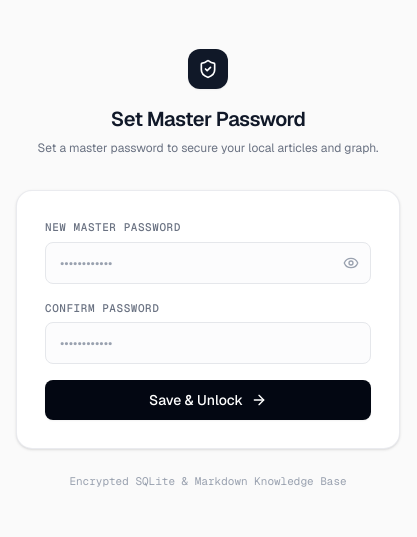
Scenario: Views: LoginView and ArchiveView › LoginView.vue › displays error when passwords do not match in setup mode
The image size is (417, 537).
Type "validpass123" into the password field with placeholder "••••••••••••" below "New Master Password" at coordinates (208, 263), box x1=45 y1=242 x2=371 y2=284
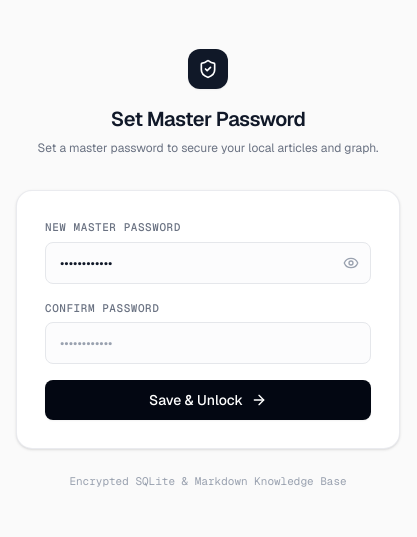
Type "mismatch123" into the password field with placeholder "••••••••••••" at coordinates (208, 343), box x1=45 y1=322 x2=371 y2=364
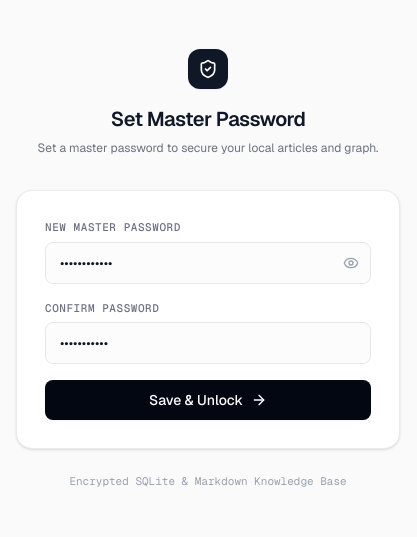
Submit the form, box x1=45 y1=219 x2=371 y2=420
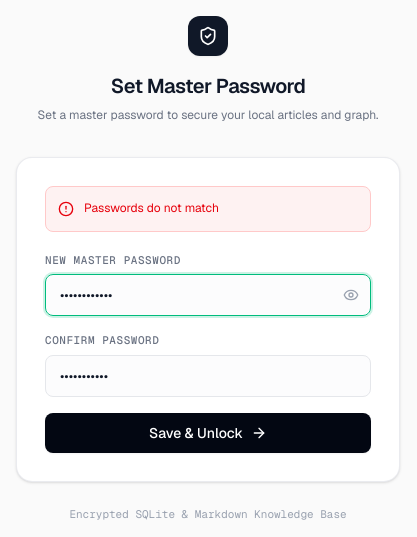
Result: the text "Passwords do not match" is shown at x1=84 y1=199 x2=219 y2=219
